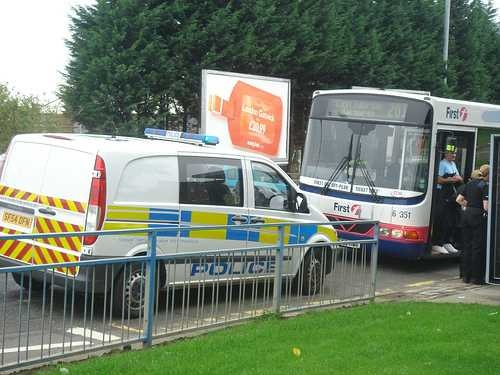Police Car: (7, 104, 348, 307)
